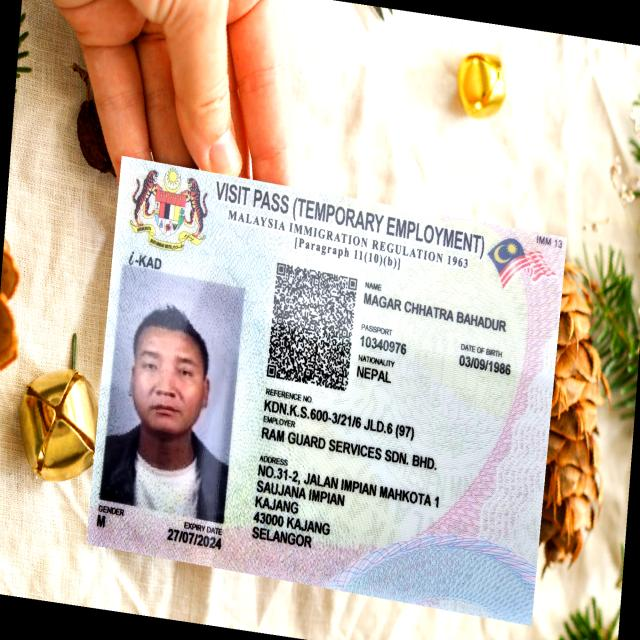ikad-temp: (85, 153, 568, 626)
